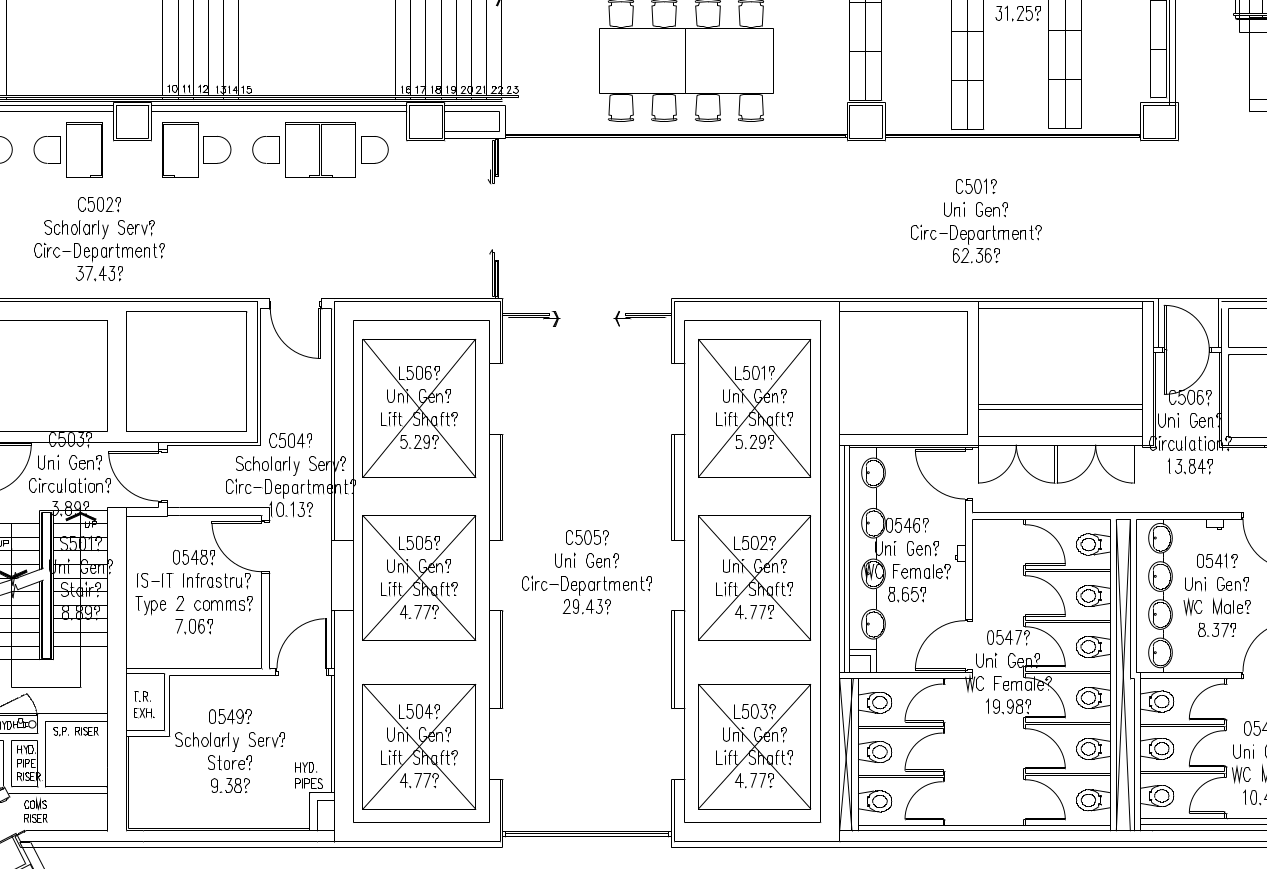door: (1158, 301, 1213, 400), (911, 614, 979, 674), (104, 446, 166, 505), (263, 301, 325, 360), (209, 518, 271, 577), (268, 614, 330, 673), (910, 444, 972, 503), (975, 441, 1021, 490), (1010, 442, 1056, 491), (1056, 440, 1102, 489), (1093, 443, 1139, 492), (1022, 523, 1069, 566), (1020, 678, 1067, 721), (1021, 727, 1068, 770), (1020, 778, 1067, 821), (900, 780, 947, 823), (900, 731, 947, 774), (898, 683, 945, 726), (1186, 679, 1230, 722), (1184, 724, 1228, 767), (1187, 773, 1231, 816), (1023, 626, 1067, 669), (1023, 575, 1067, 618)
